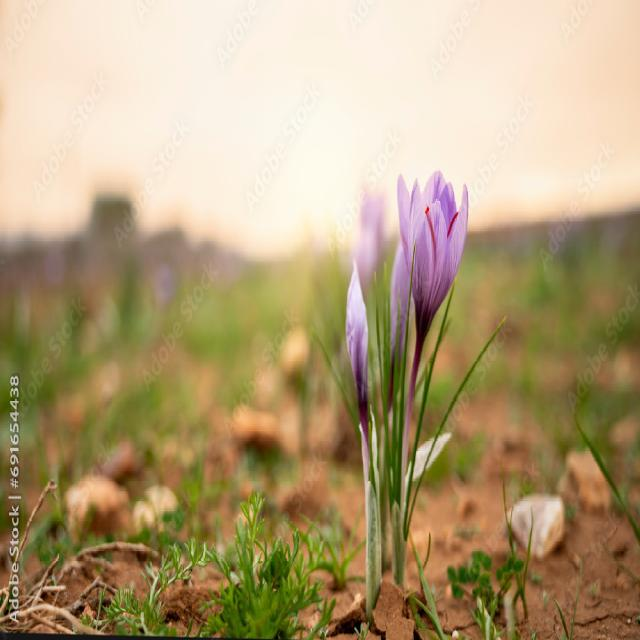saffron closed: (346, 260, 369, 441), (390, 241, 410, 367)
saffron open: (398, 171, 469, 469)
